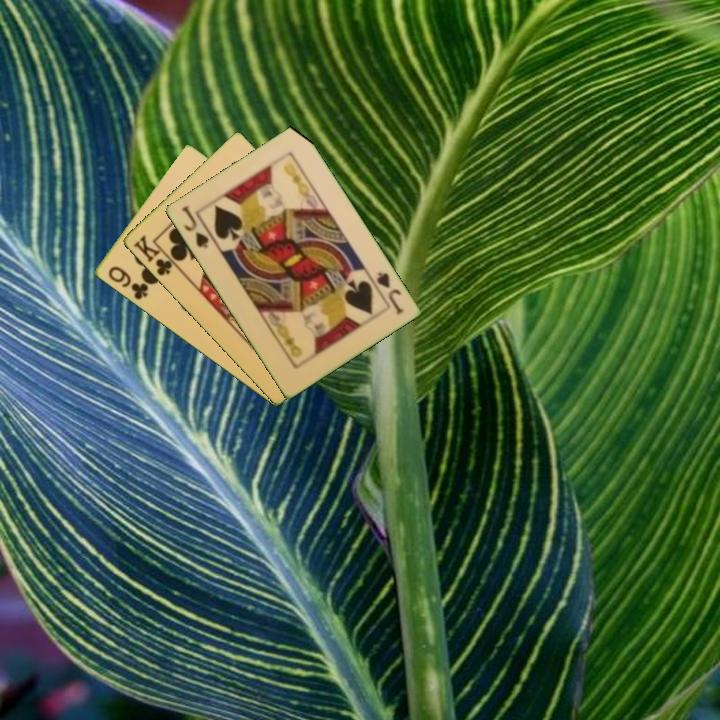9c: (104, 262, 151, 303)
Js: (372, 268, 406, 318), (177, 202, 211, 251)
Kc: (129, 231, 180, 279)
